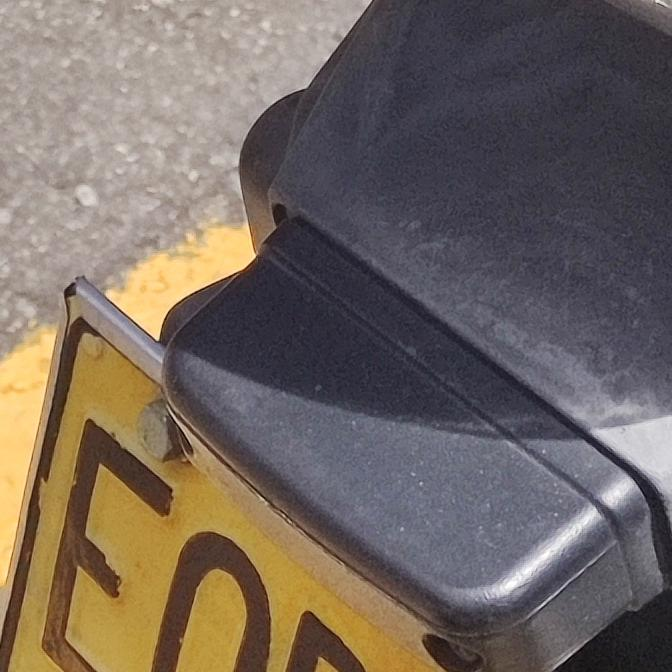plates: (0, 267, 561, 672)
